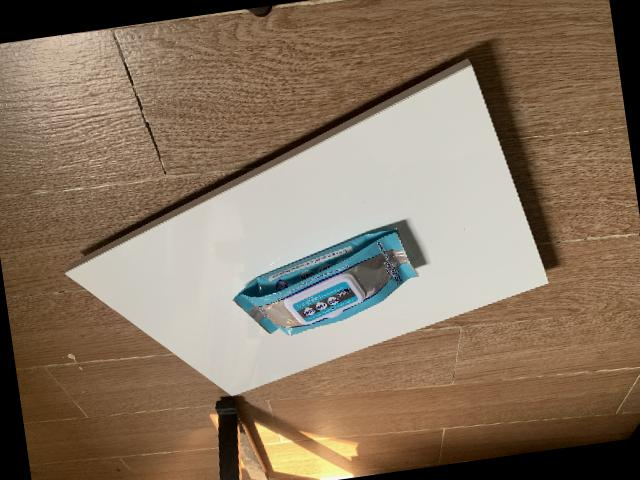Let-green_alcohol_wipes: (231, 228, 417, 334)
